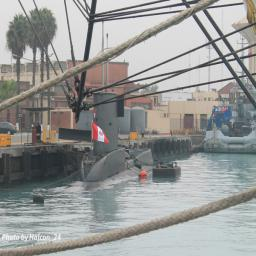submarine: (40, 82, 167, 201)
